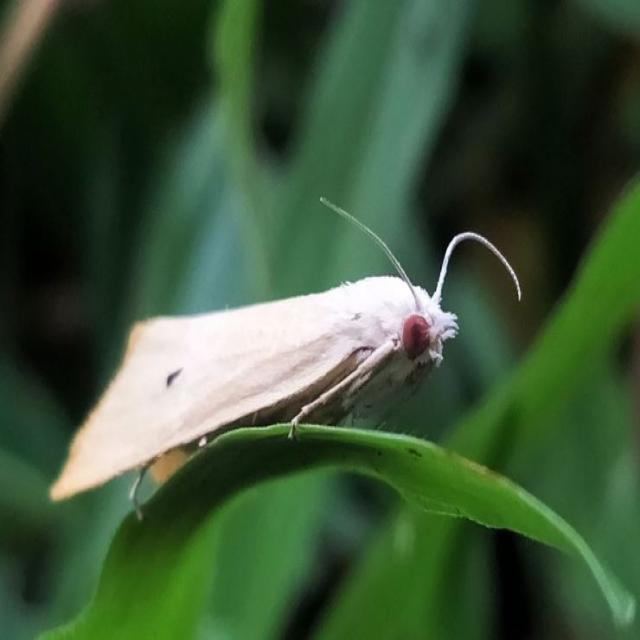rice stem borer -penggerek batang padi-: (48, 191, 523, 515)
